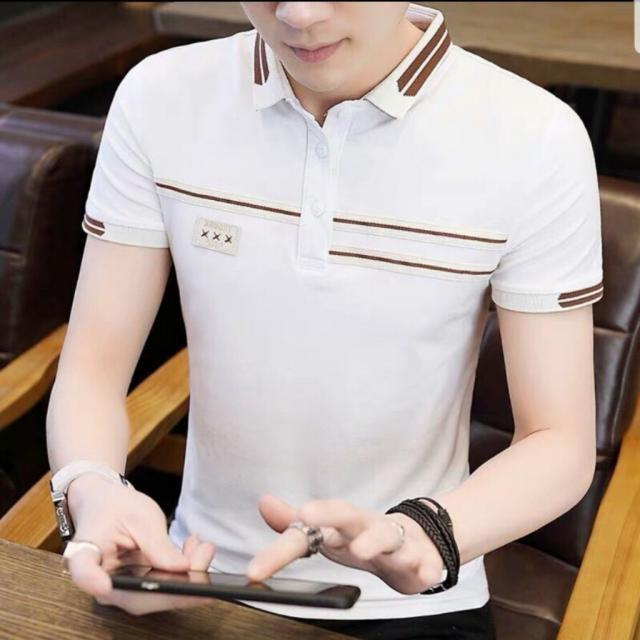Shirt: (81, 4, 606, 614)
